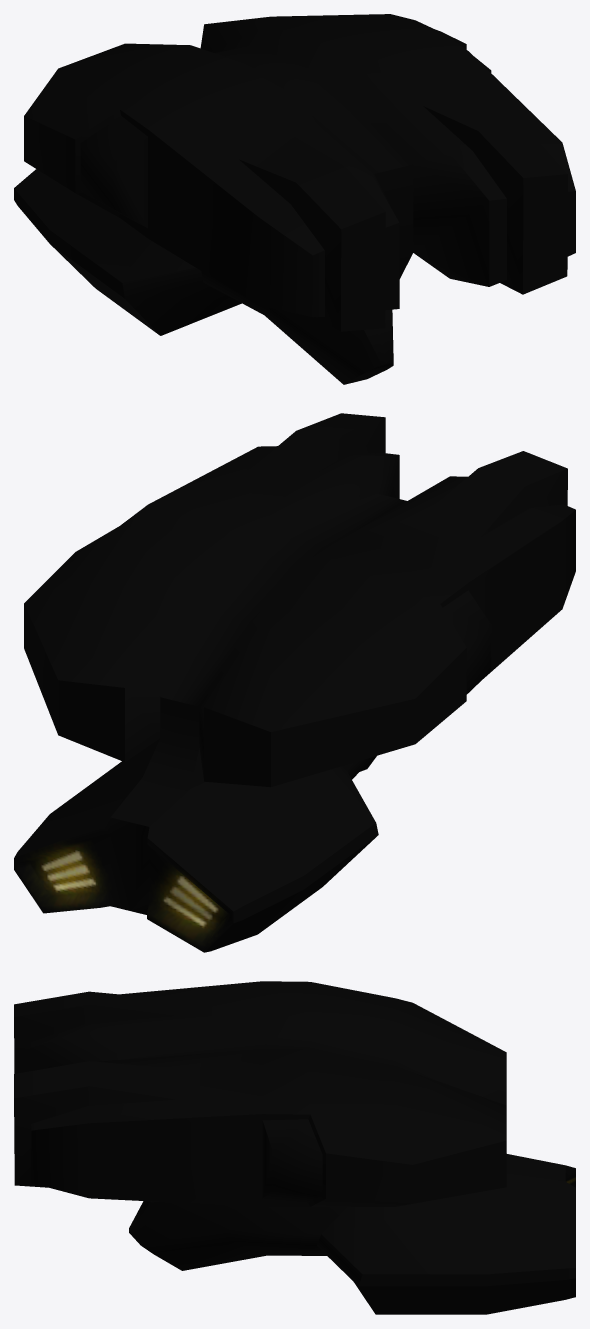
Rendered from kpr_mover_01.glb.
3 renders of one model, top to bottom at view 1: azimuth 30°, elevation 25°; view 2: azimuth 150°, elevation 25°; view 3: azimuth 270°, elevation 25°, orthographic. The views are drawn at different scales.
Visible parts, largest first — view 1: kpr_mover_01_LOD0; view 2: kpr_mover_01_LOD0; view 3: kpr_mover_01_LOD0.
Part boxes in pixels (bbox=[...]): kpr_mover_01_LOD0: bbox=[14, 14, 575, 384]; kpr_mover_01_LOD0: bbox=[14, 413, 575, 952]; kpr_mover_01_LOD0: bbox=[14, 981, 575, 1314].
Size of what is drawn, in the model's own units: 0.4895 by 0.3495 by 0.7167.
Materials: 1 (1 with a texture image).
